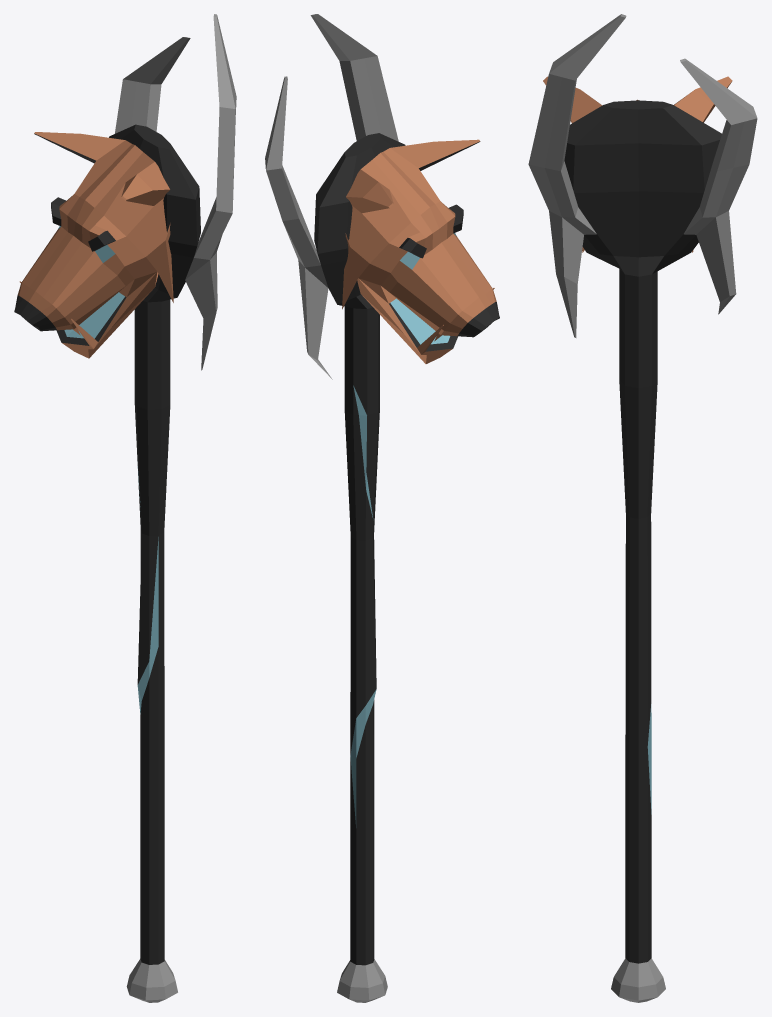
Rendered from WolfStaff.fbx.
The picture shows the model from 3 angles, left to right: view 1: azimuth 30°, elevation 25°; view 2: azimuth 150°, elevation 25°; view 3: azimuth 270°, elevation 25°; orthographic projection. The views are drawn at different scales.
Visible parts, largest first — view 1: WolfStaff; view 2: WolfStaff; view 3: WolfStaff.
Boxes of the visible parts, <box> form: WolfStaff: <box>14,14,236,1002</box>; WolfStaff: <box>265,14,499,1002</box>; WolfStaff: <box>528,14,757,1002</box>.
Size of the model in its own units: 43.99 by 214 by 44.02.
Materials: 1 (1 with a texture image).
